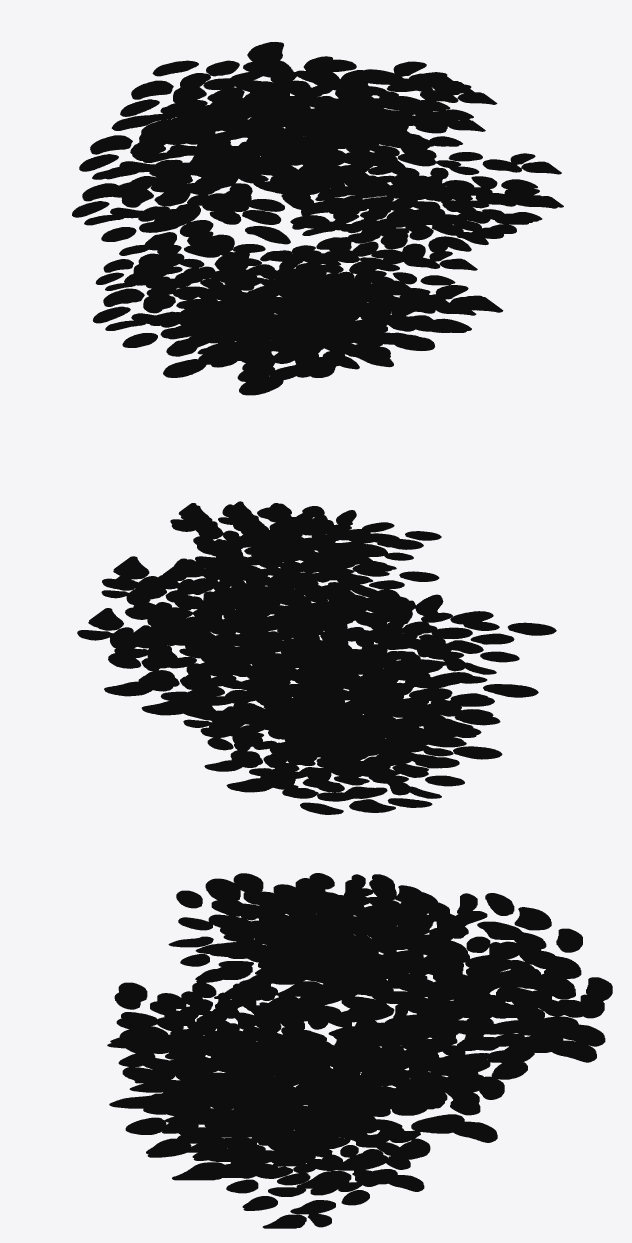
Rendered from tree_leaves_1.fbx.
3 views of the same model, one above another, from view 1: azimuth 30°, elevation 25°; view 2: azimuth 150°, elevation 25°; view 3: azimuth 270°, elevation 25° (orthographic). The views are drawn at different scales.
Parts seen in each view (by area): view 1: Emitter; view 2: Emitter; view 3: Emitter.
Part boxes in pixels (<box>): Emitter: <box>72,42,563,395</box>; Emitter: <box>77,501,556,814</box>; Emitter: <box>107,873,612,1228</box>.
Bounding box in the file's own units: 362 × 163 × 378.
